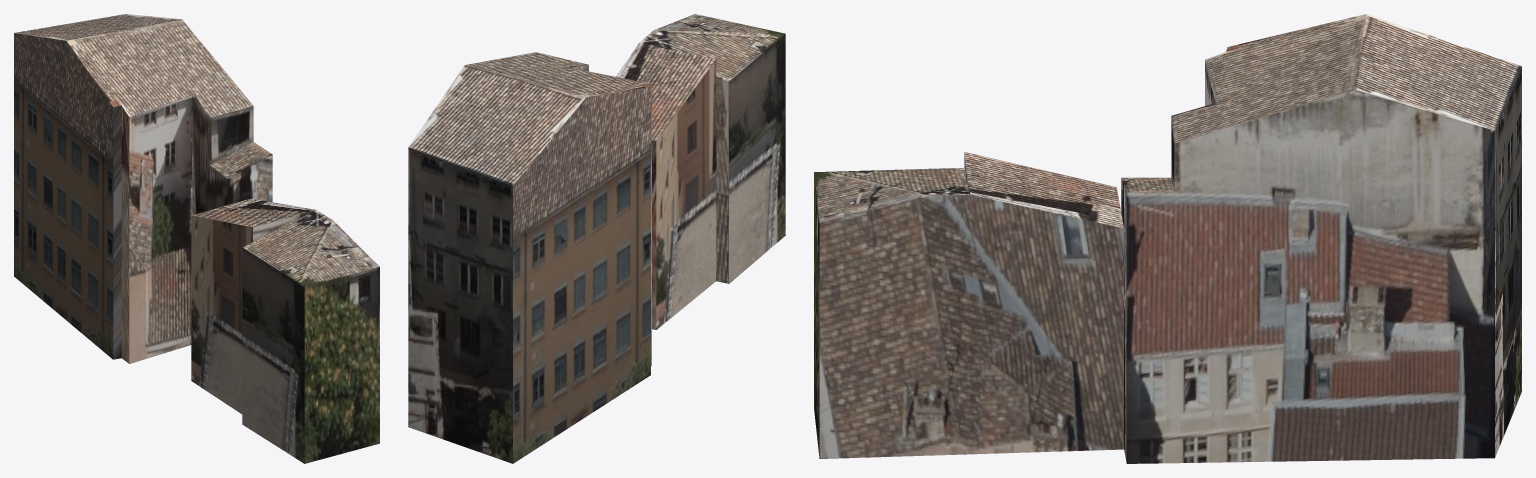
3 views of the same model, side by side, from view 1: azimuth 30°, elevation 25°; view 2: azimuth 150°, elevation 25°; view 3: azimuth 270°, elevation 25° (orthographic). The views are drawn at different scales.
Visible parts, largest first — view 1: Z_UP; view 2: Z_UP; view 3: Z_UP.
Boxes of the visible parts, <box> form: Z_UP: <box>14,14,379,463</box>; Z_UP: <box>408,14,785,463</box>; Z_UP: <box>814,14,1521,463</box>.
Bounding box in the file's own units: 9.04 × 19.86 × 34.08.
Materials: 2 (1 with a texture image).
